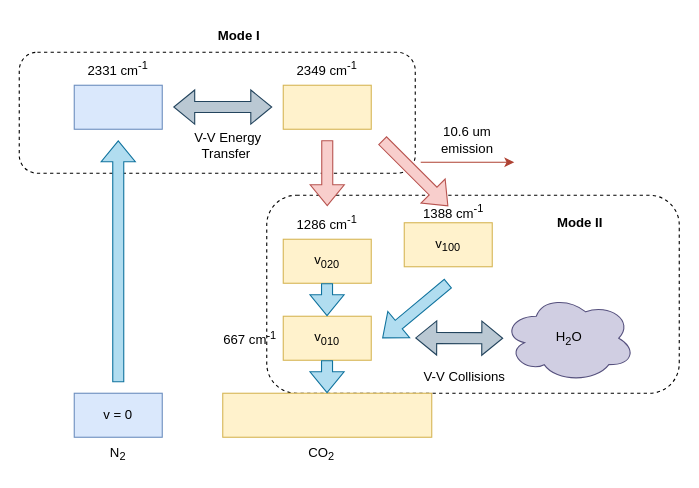
The diagram is 699 pixels wide and 488 high, and some of its shapes have lost their labels. Each missing label, with the centre of its shape:
v 000: the point at 327,414
v 001: the point at 326,106
v = 1: the point at 117,106
